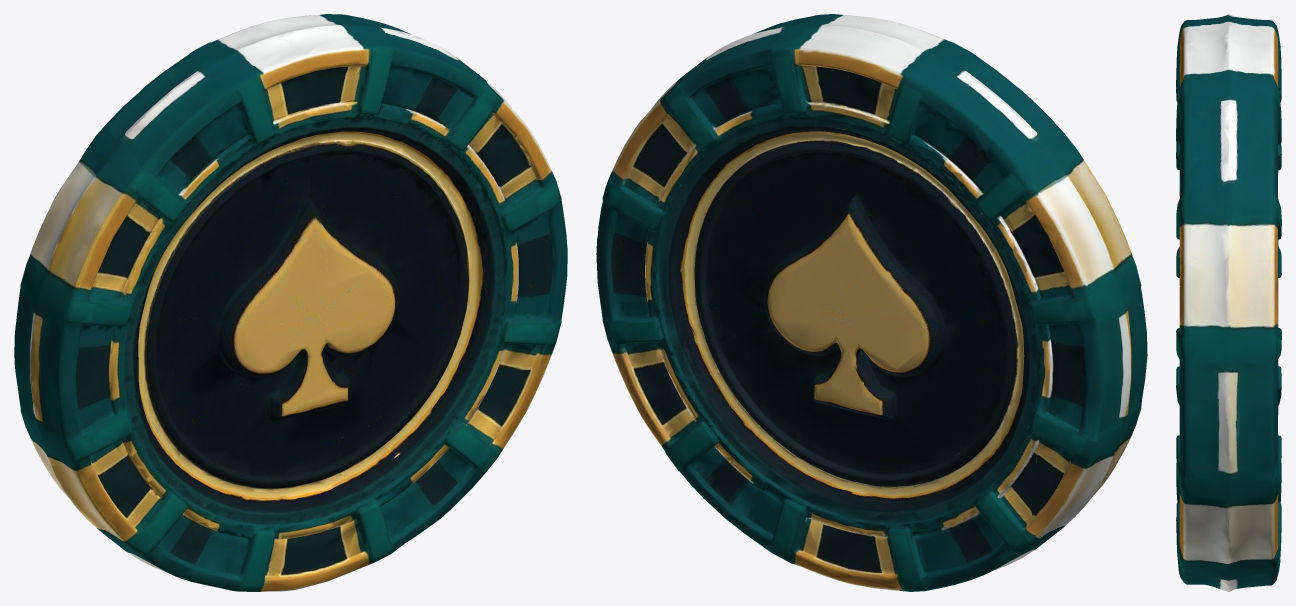
File: poker_chip.glb
The picture shows the model from 3 angles, left to right: view 1: azimuth 30°, elevation 25°; view 2: azimuth 150°, elevation 25°; view 3: azimuth 270°, elevation 25°; orthographic projection. The views are drawn at different scales.
Bounding box in the file's own units: 1.9 × 1.9 × 0.3463.
Materials: 1 (1 with a texture image).
